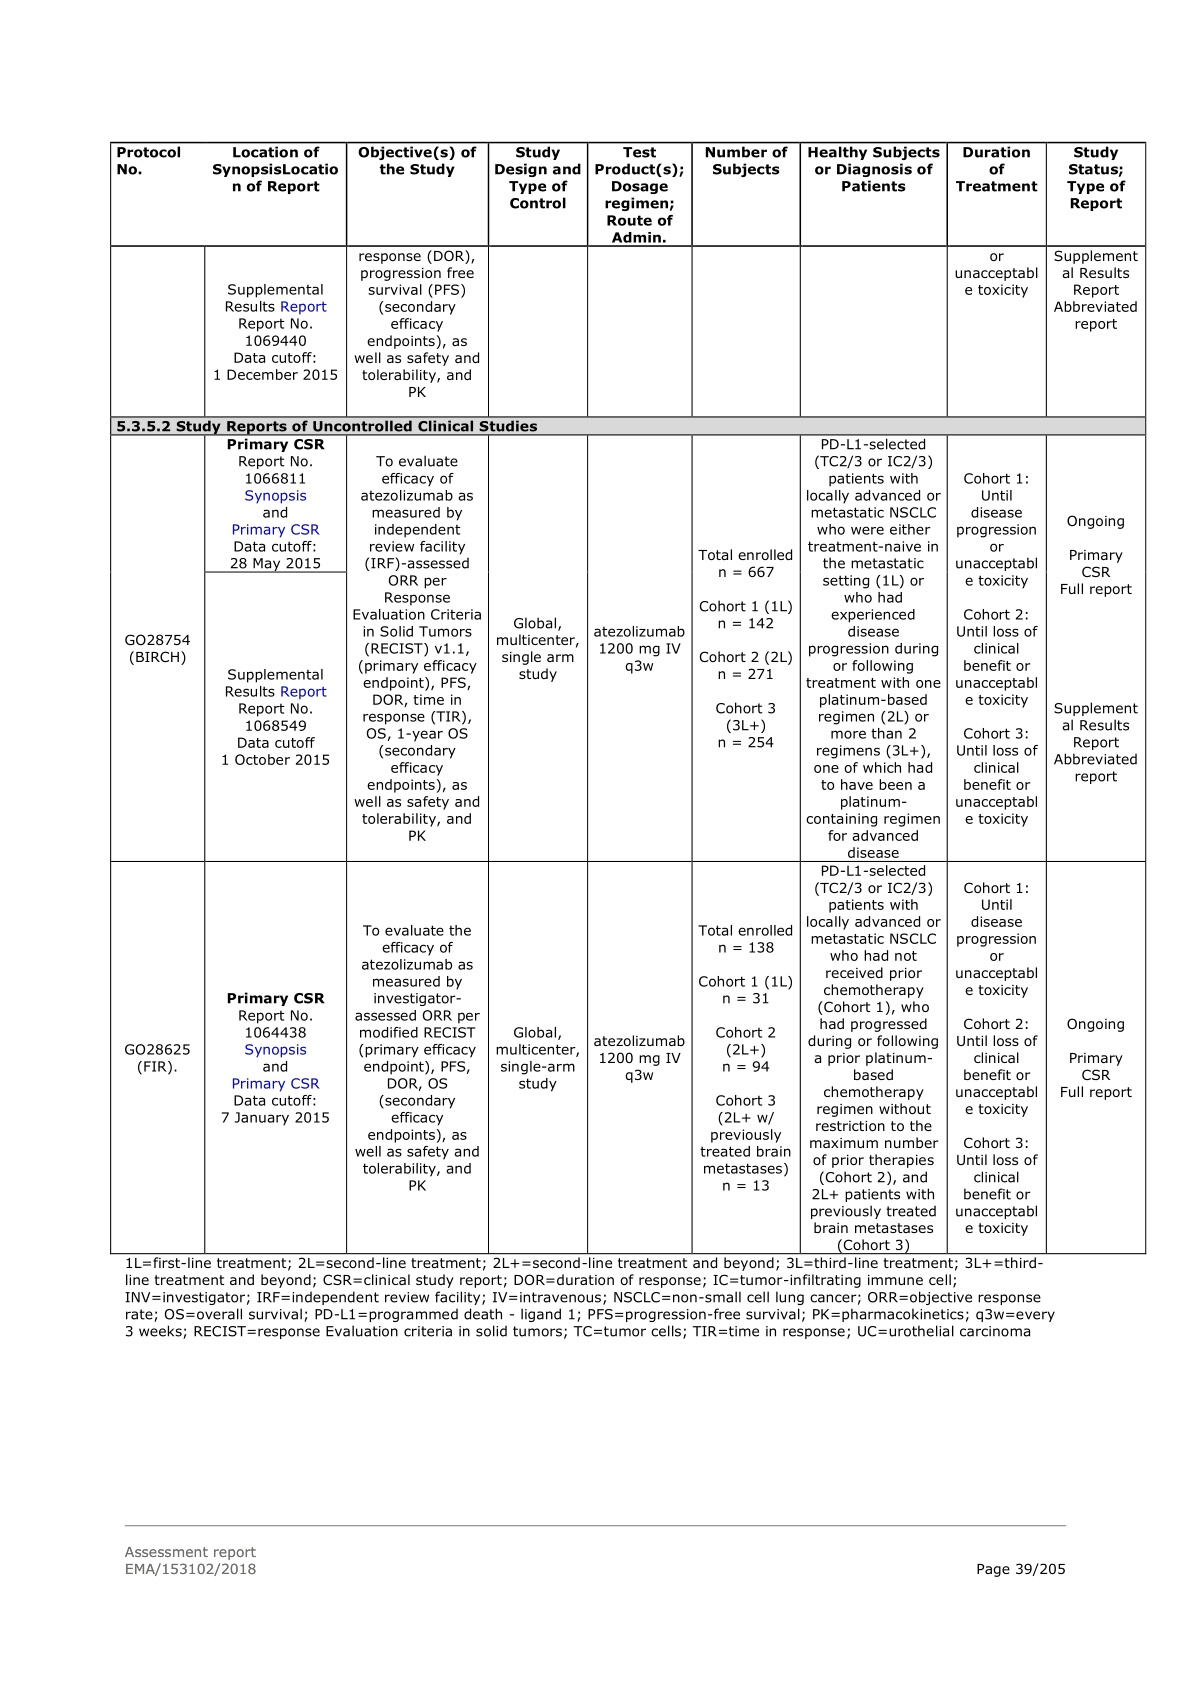merged_cells: (110, 140, 1146, 1254)
